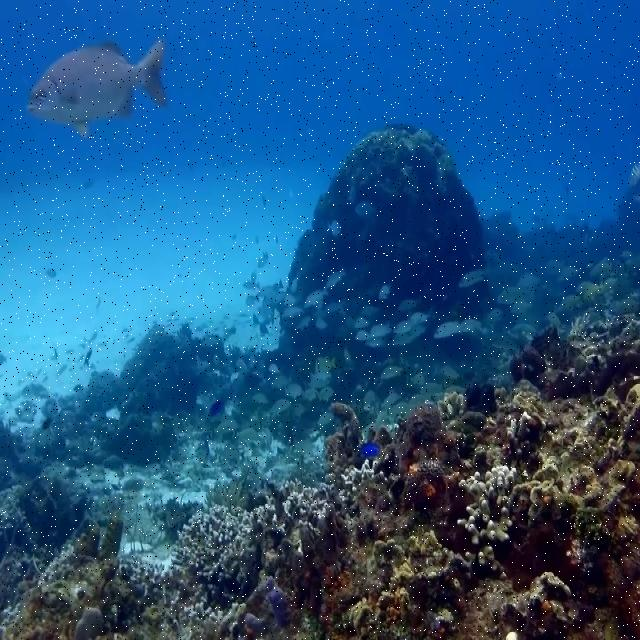fish: (26, 40, 167, 133)
reefs: (0, 300, 639, 639), (277, 126, 508, 373), (170, 503, 268, 605), (172, 600, 248, 639)
